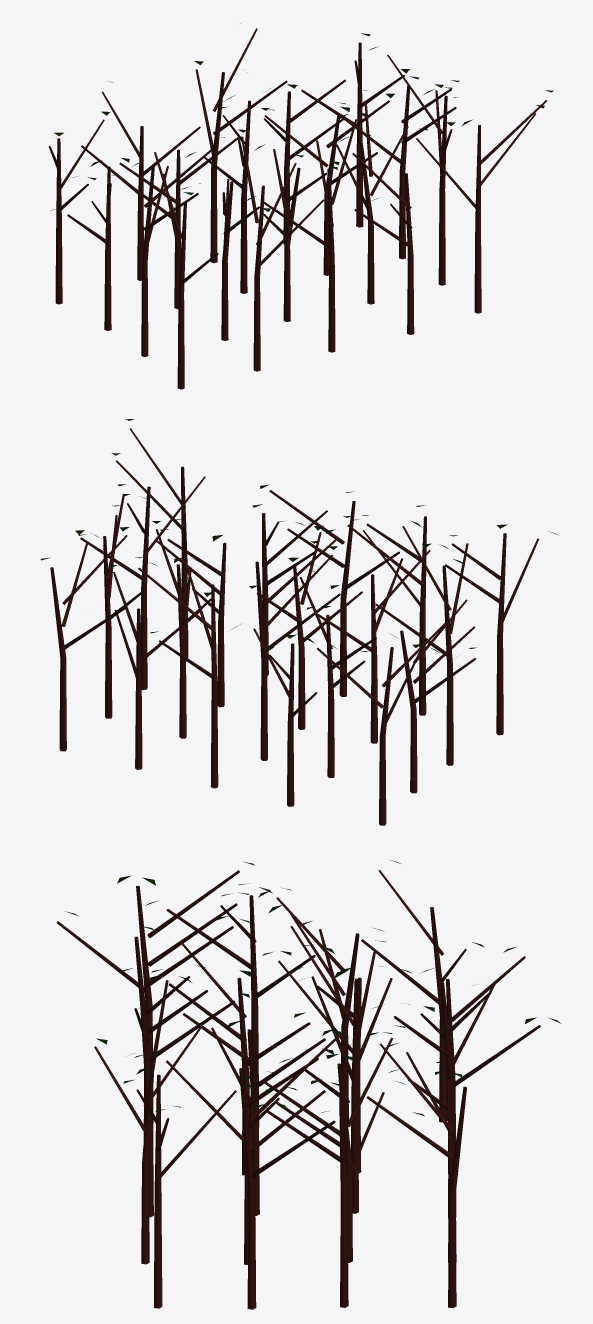
Rendered from fm_cassava_3.glb.
The picture shows the model from 3 angles, top to bottom: view 1: azimuth 30°, elevation 25°; view 2: azimuth 150°, elevation 25°; view 3: azimuth 270°, elevation 25°; orthographic projection. The views are drawn at different scales.
Parts seen in each view (by area): view 1: fm_cassava_3; view 2: fm_cassava_3; view 3: fm_cassava_3.
Part boxes in pixels (x1,y1,x2,y2): fm_cassava_3: (48,23,553,389); fm_cassava_3: (40,419,558,825); fm_cassava_3: (56,860,561,1309).
Size of the model in its own units: 5 by 2.18 by 4.19.
